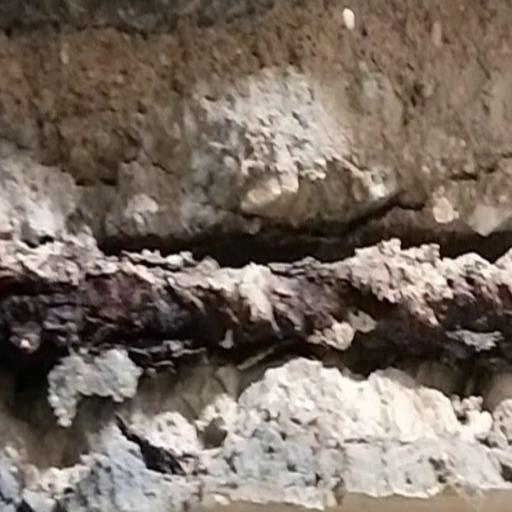spalling: (0, 101, 512, 479)
